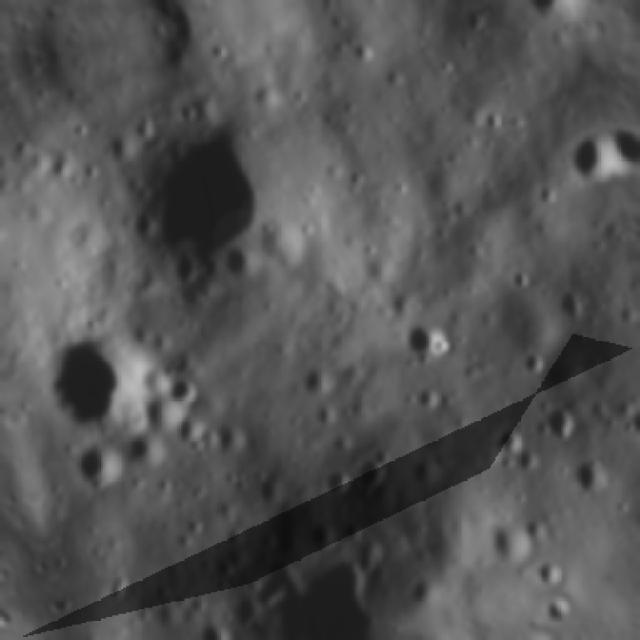crater: (106, 103, 302, 302), (31, 303, 163, 459), (249, 543, 389, 640), (64, 430, 130, 496), (552, 123, 614, 191), (112, 417, 174, 478), (482, 509, 543, 571), (389, 313, 448, 369), (345, 442, 400, 500), (156, 366, 210, 417), (166, 404, 217, 453), (564, 449, 614, 498), (537, 396, 583, 446), (479, 419, 528, 464), (318, 461, 358, 507), (344, 34, 385, 74), (551, 283, 591, 322), (518, 342, 556, 383), (302, 515, 336, 551), (502, 261, 535, 297), (515, 0, 574, 20), (621, 395, 640, 456), (514, 443, 546, 479), (383, 62, 412, 92), (339, 513, 368, 542)
